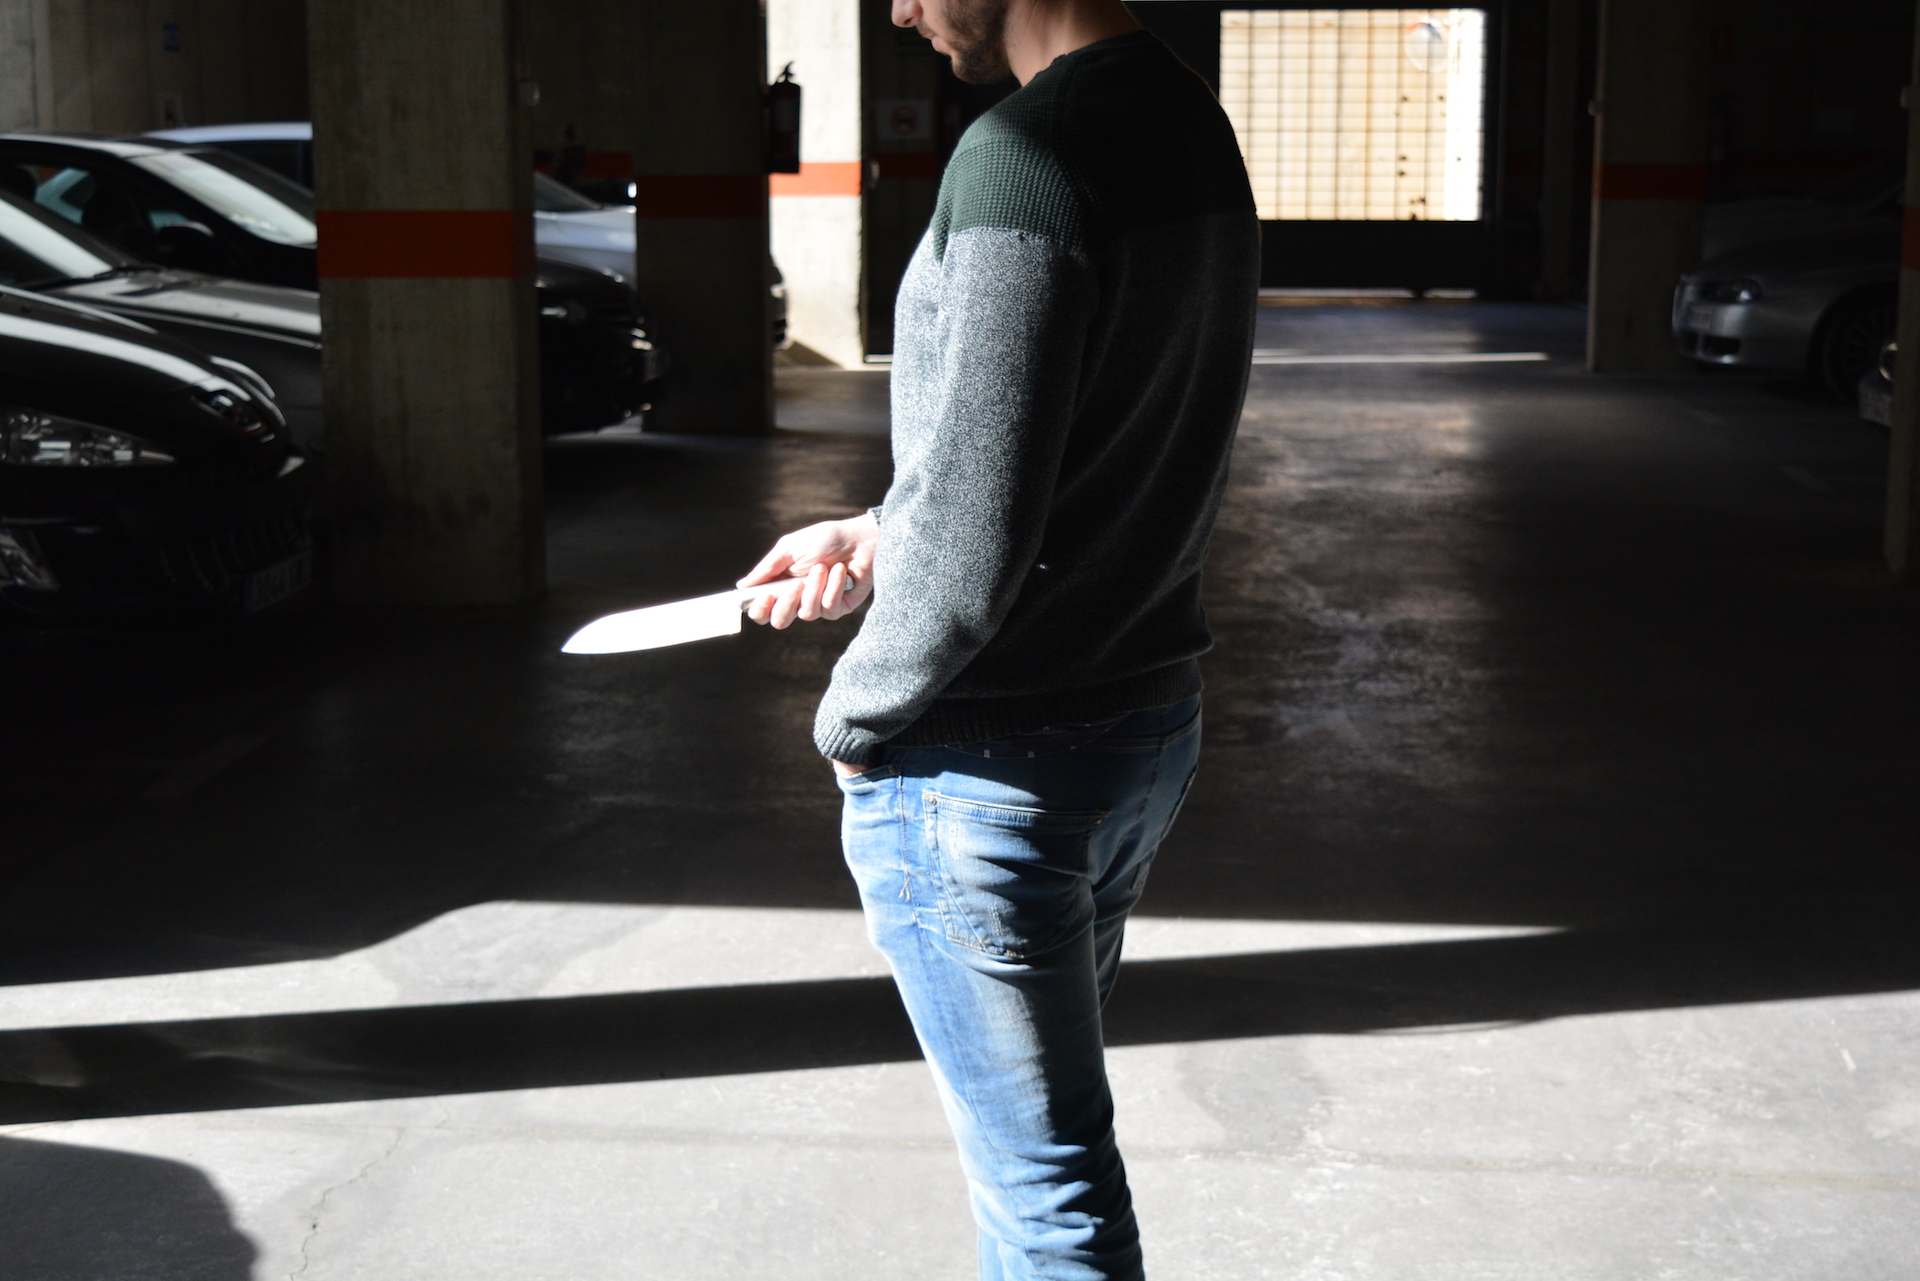knife: (545, 558, 861, 661)
